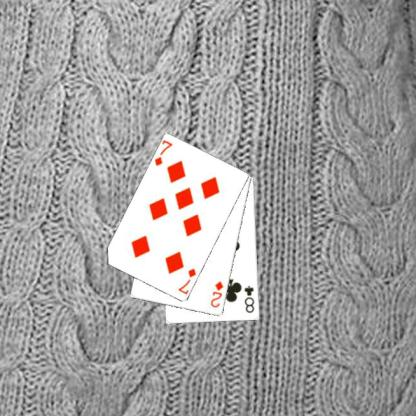2D: (208, 279, 225, 309)
7D: (175, 265, 197, 295), (152, 138, 174, 168)
8C: (242, 283, 256, 314)
